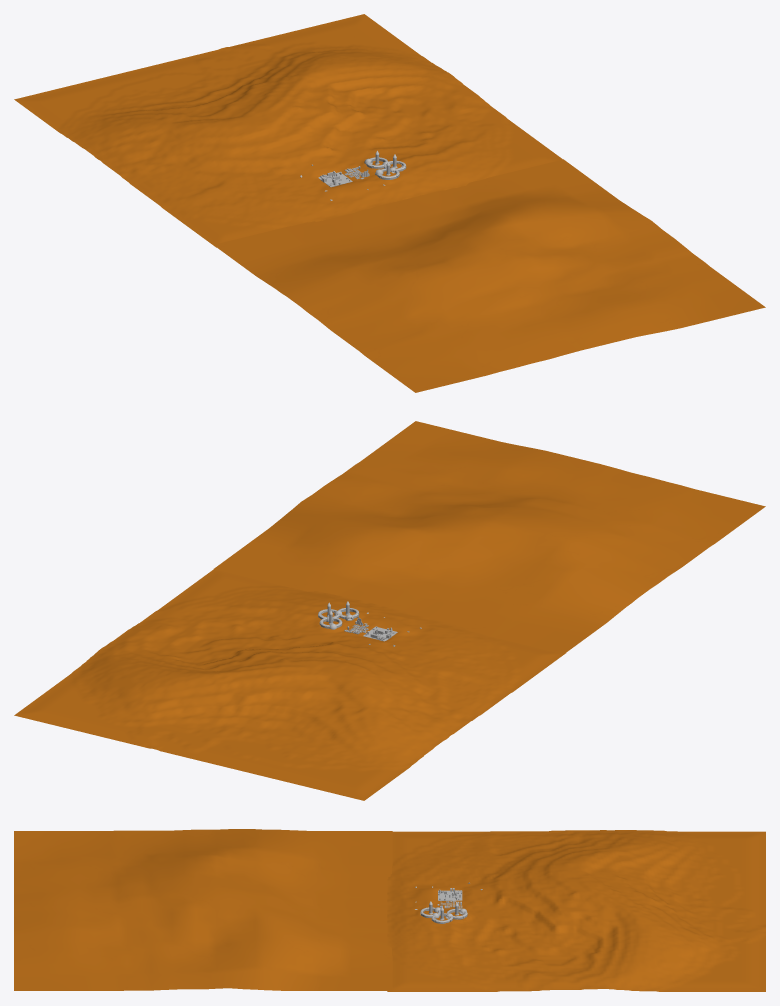
The model's file is CityLP_Wael.glb.
3 views of the same model, one above another, from view 1: azimuth 30°, elevation 25°; view 2: azimuth 150°, elevation 25°; view 3: azimuth 270°, elevation 25° (orthographic). The views are drawn at different scales.
Visible parts, largest first — view 1: pPlane3, pPlane1; view 2: pPlane3, pPlane1; view 3: pPlane3, pPlane1.
Boxes of the visible parts, left/top/right/bottom form: pPlane3: left=213, top=159, right=765, bottom=392; pPlane1: left=14, top=14, right=562, bottom=247; pPlane3: left=214, top=421, right=765, bottom=654; pPlane1: left=14, top=569, right=565, bottom=800; pPlane3: left=14, top=829, right=392, bottom=990; pPlane1: left=387, top=830, right=765, bottom=991.
Size of the model in its own units: 11.74 by 0.7579 by 23.3.
Materials: 2 (1 with a texture image).
